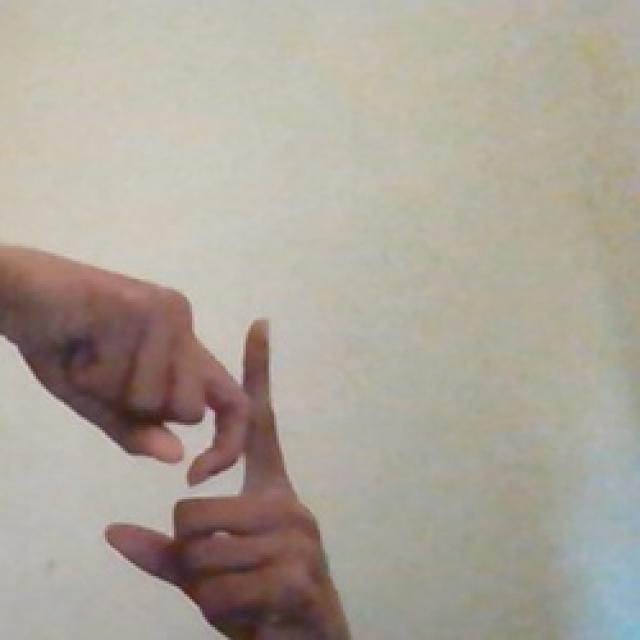Alphabet-K: (4, 223, 349, 637)
